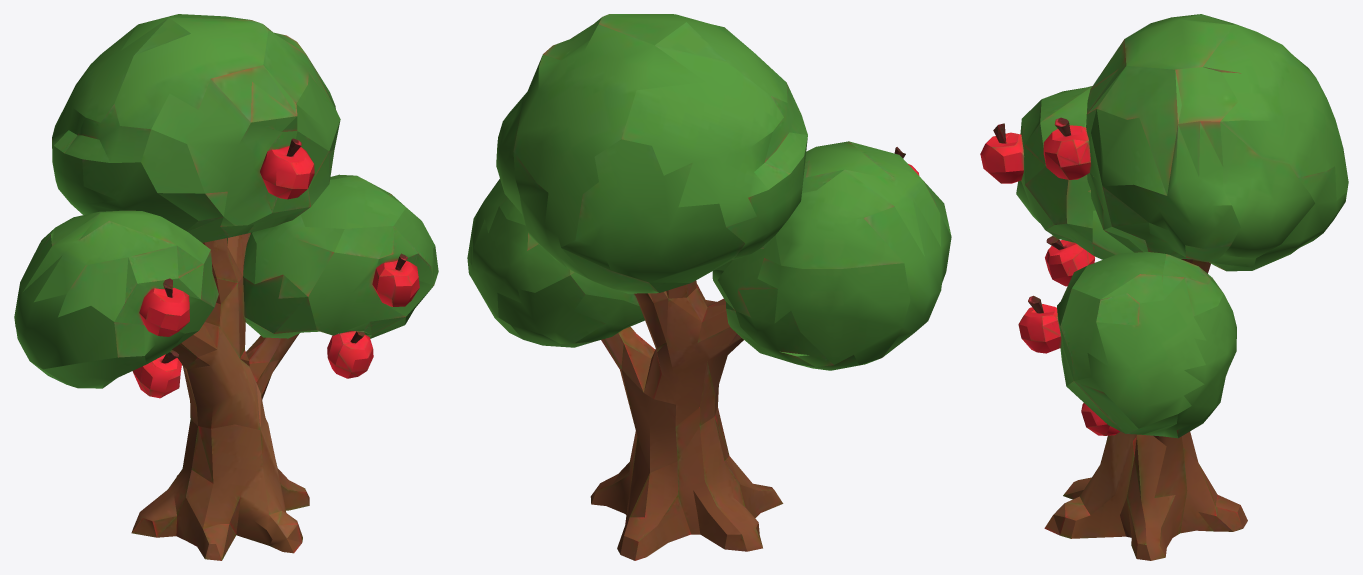
The model's file is nature-tree-oak.glb.
The picture shows the model from 3 angles, left to right: view 1: azimuth 30°, elevation 25°; view 2: azimuth 150°, elevation 25°; view 3: azimuth 270°, elevation 25°; orthographic projection. The views are drawn at different scales.
Visible parts, largest first — view 1: nature-tree-oak-fit; view 2: nature-tree-oak-fit; view 3: nature-tree-oak-fit.
Boxes of the visible parts, x1,y1,x2,y2 form: nature-tree-oak-fit: (14, 14, 438, 560); nature-tree-oak-fit: (467, 14, 951, 560); nature-tree-oak-fit: (980, 14, 1348, 560).
Size of the model in its own units: 4.01 by 4.42 by 2.99.
Materials: 1 (1 with a texture image).
